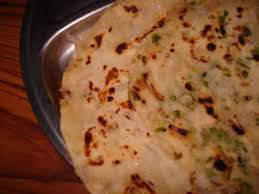rotti: (61, 3, 259, 194)
